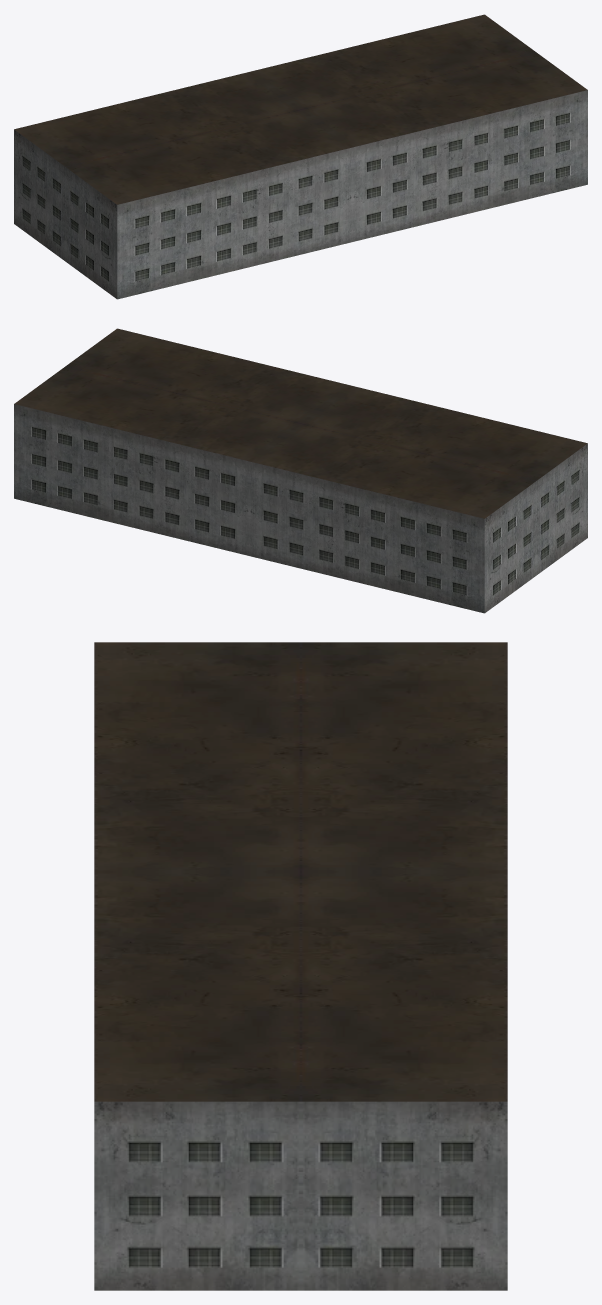
File: factoryDepot.glb
3 views of the same model, one above another, from view 1: azimuth 30°, elevation 25°; view 2: azimuth 150°, elevation 25°; view 3: azimuth 270°, elevation 25° (orthographic). The views are drawn at different scales.
Visible parts, largest first — view 1: factoryDepot; view 2: factoryDepot; view 3: factoryDepot.
Part boxes in pixels (bbox=[...]): factoryDepot: bbox=[14, 14, 587, 299]; factoryDepot: bbox=[14, 328, 587, 613]; factoryDepot: bbox=[94, 642, 507, 1290].
Size of the model in its own units: 50 by 9.6 by 19.
Materials: 1 (1 with a texture image).
